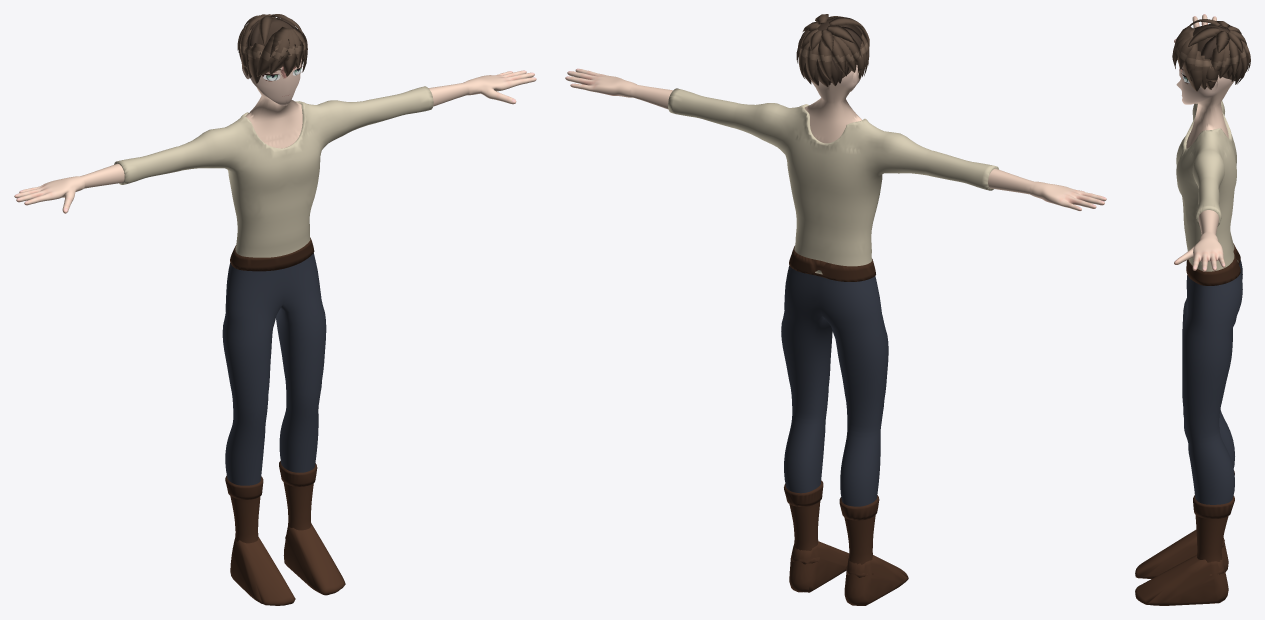
The model's file is adventurer-a025.glb.
The picture shows the model from 3 angles, left to right: view 1: azimuth 30°, elevation 25°; view 2: azimuth 150°, elevation 25°; view 3: azimuth 270°, elevation 25°; orthographic projection. The views are drawn at different scales.
Parts seen in each view (by area): view 1: Enosh_Outfit_Trousers, Enosh_Outfit_Shirt, Enosh_Skin, Enosh_Outfit_BootFeet, Enosh_Hair_01, Enosh_Outfit_Boots, Enosh_Outfit_Belt, Enosh_Outfit_BootCuffs; view 2: Enosh_Outfit_Trousers, Enosh_Outfit_Shirt, Enosh_Skin, Enosh_Outfit_BootFeet, Enosh_Hair_01, Enosh_Outfit_Boots, Enosh_Outfit_Belt, Enosh_Outfit_BootCuffs; view 3: Enosh_Outfit_Trousers, Enosh_Outfit_Shirt, Enosh_Outfit_BootFeet, Enosh_Hair_01, Enosh_Skin, Enosh_Outfit_Boots, Enosh_Outfit_Belt, Enosh_Outfit_BootCuffs.
Boxes of the visible parts, left/top/right/bottom form: Enosh_Outfit_Trousers: left=222, top=253, right=326, bottom=485; Enosh_Outfit_Shirt: left=114, top=86, right=433, bottom=257; Enosh_Skin: left=14, top=59, right=536, bottom=213; Enosh_Outfit_BootFeet: left=230, top=523, right=345, bottom=605; Enosh_Hair_01: left=237, top=14, right=307, bottom=83; Enosh_Outfit_Boots: left=230, top=482, right=313, bottom=553; Enosh_Outfit_Belt: left=230, top=238, right=314, bottom=271; Enosh_Outfit_BootCuffs: left=225, top=461, right=317, bottom=499; Enosh_Outfit_Trousers: left=781, top=266, right=888, bottom=506; Enosh_Outfit_Shirt: left=668, top=88, right=998, bottom=274; Enosh_Skin: left=565, top=65, right=1106, bottom=210; Enosh_Outfit_BootFeet: left=789, top=541, right=908, bottom=605; Enosh_Hair_01: left=796, top=14, right=869, bottom=87; Enosh_Outfit_Boots: left=789, top=501, right=875, bottom=577; Enosh_Outfit_Belt: left=789, top=246, right=875, bottom=281; Enosh_Outfit_BootCuffs: left=784, top=480, right=879, bottom=520; Enosh_Outfit_Trousers: left=1182, top=260, right=1242, bottom=504; Enosh_Outfit_Shirt: left=1176, top=100, right=1238, bottom=271; Enosh_Outfit_BootFeet: left=1135, top=529, right=1228, bottom=605; Enosh_Hair_01: left=1172, top=19, right=1250, bottom=91; Enosh_Skin: left=1174, top=14, right=1234, bottom=271; Enosh_Outfit_Boots: left=1195, top=515, right=1228, bottom=576; Enosh_Outfit_Belt: left=1186, top=243, right=1240, bottom=285; Enosh_Outfit_BootCuffs: left=1193, top=471, right=1234, bottom=518.
Size of the model in its own units: 1.72 by 1.76 by 0.3284.
27 materials, 14 textured.
